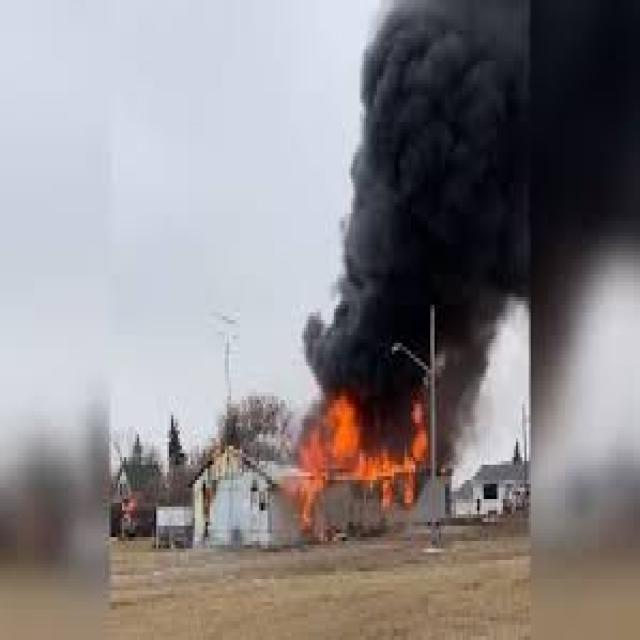Fire: (286, 393, 429, 526)
Smoke: (360, 1, 533, 298), (344, 157, 506, 374), (304, 311, 490, 392), (429, 347, 486, 470)
